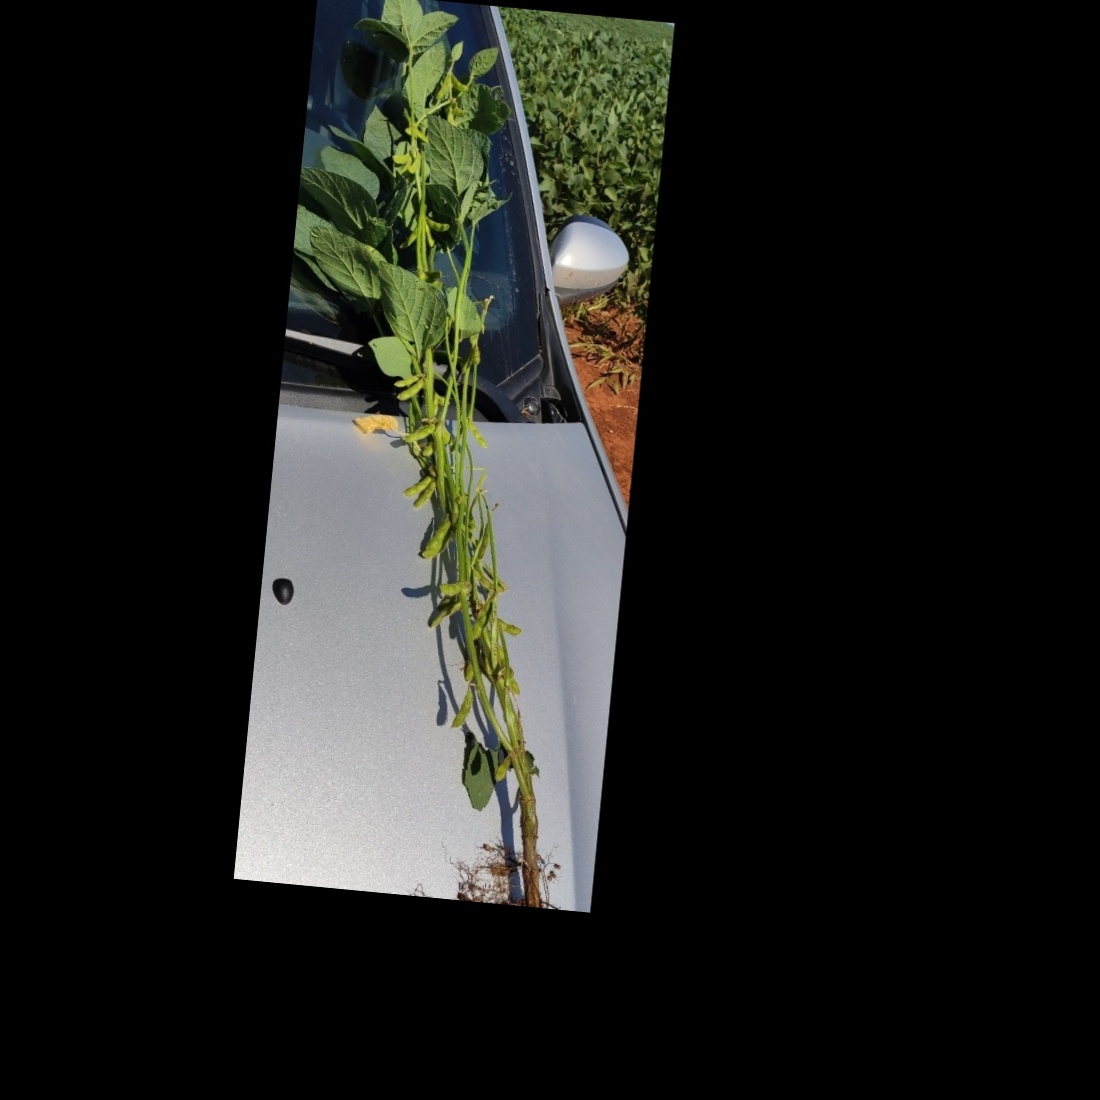pod: (450, 686, 477, 733), (458, 417, 493, 454), (395, 374, 430, 406), (401, 471, 436, 501), (412, 475, 438, 513), (402, 420, 436, 445), (390, 370, 424, 394), (443, 66, 474, 93), (418, 214, 456, 234), (433, 71, 453, 103), (495, 615, 525, 636), (405, 148, 427, 175)
soy: (248, 0, 664, 972)
